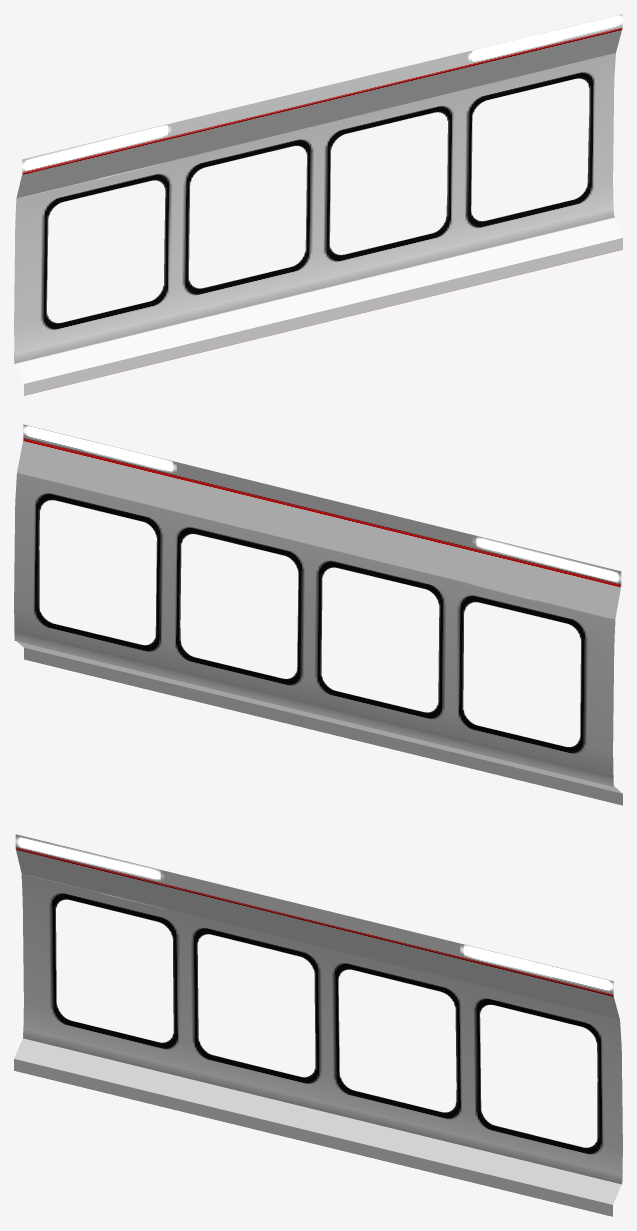
Rendered from Lv2_HandOfDominion_Window.fbx.
3 views of the same model, one above another, from view 1: azimuth 30°, elevation 25°; view 2: azimuth 150°, elevation 25°; view 3: azimuth 330°, elevation 25° (orthographic).
Parts seen in each view (by area): view 1: WallWindow; view 2: WallWindow; view 3: WallWindow.
Part boxes in pixels (left/top/right/bottom): WallWindow: left=14, top=14, right=622, bottom=395; WallWindow: left=14, top=424, right=622, bottom=805; WallWindow: left=14, top=834, right=622, bottom=1216.
Size of the model in its own units: 1217 by 457 by 35.
